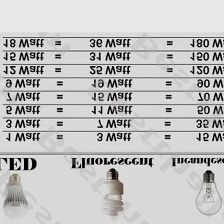light_bulb: (192, 168, 224, 217), (96, 167, 126, 219), (0, 171, 30, 222)
